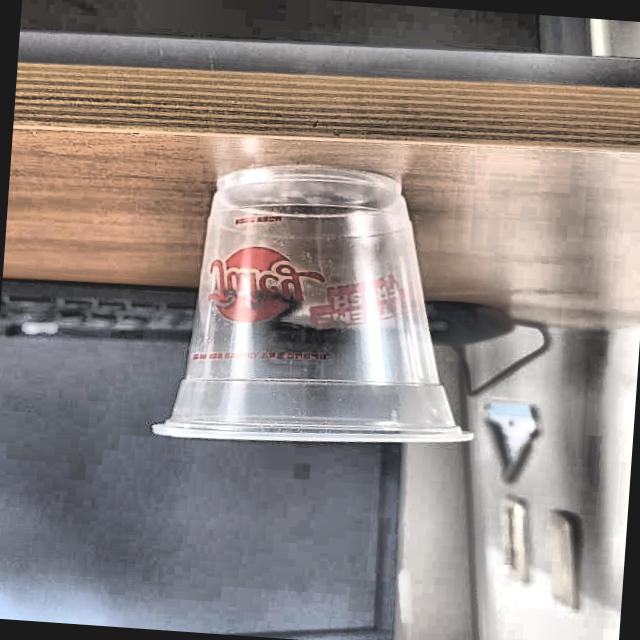plastic cup: (149, 155, 496, 463)
